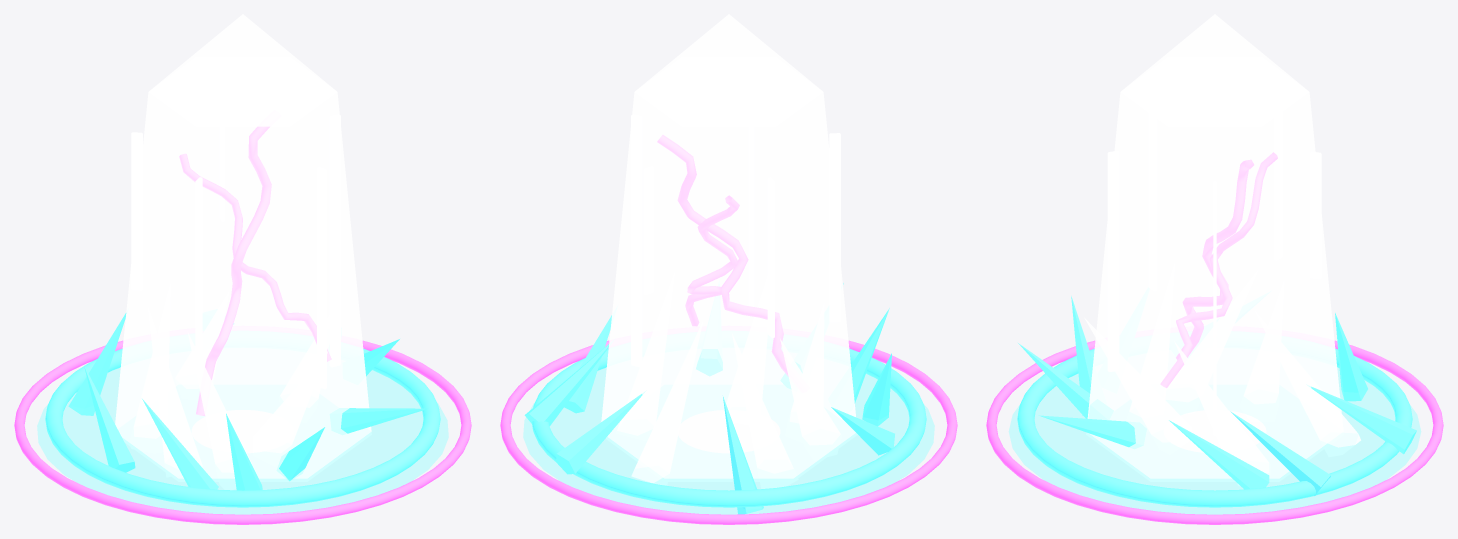
Rendered from vfx_reaction_flashfreeze.glb.
3 renders of one model, left to right at view 1: azimuth 30°, elevation 25°; view 2: azimuth 150°, elevation 25°; view 3: azimuth 270°, elevation 25°, orthographic.
Visible parts, largest first — view 1: ff_pillar, ff_rime, ff_pillar_cap, ff_crystals_b, ff_ring, ff_crystals, ff_ring_shock, ff_arc_a, ff_facet1, ff_arc_b, ff_facet2, ff_facet3; view 2: ff_pillar, ff_crystals_b, ff_pillar_cap, ff_rime, ff_crystals, ff_ring, ff_ring_shock, ff_arc_a, ff_arc_b, ff_facet2, ff_facet4, ff_facet3; view 3: ff_pillar, ff_crystals_b, ff_rime, ff_pillar_cap, ff_crystals, ff_ring, ff_ring_shock, ff_facet1, ff_arc_b, ff_arc_a, ff_facet4, ff_facet0 (+1 smaller).
Boxes of the visible parts, <box> form: ff_pillar: <box>115,57,371,481</box>; ff_rime: <box>37,368,448,514</box>; ff_pillar_cap: <box>149,14,336,126</box>; ff_crystals_b: <box>130,284,337,490</box>; ff_ring: <box>45,348,440,507</box>; ff_crystals: <box>68,312,427,490</box>; ff_ring_shock: <box>14,340,471,524</box>; ff_arc_a: <box>196,127,271,415</box>; ff_facet1: <box>317,166,326,389</box>; ff_arc_b: <box>179,154,331,361</box>; ff_facet2: <box>195,177,202,368</box>; ff_facet3: <box>131,132,142,290</box>; ff_pillar: <box>601,57,857,481</box>; ff_crystals_b: <box>617,273,840,488</box>; ff_pillar_cap: <box>635,14,822,126</box>; ff_rime: <box>523,368,934,514</box>; ff_crystals: <box>524,283,894,514</box>; ff_ring: <box>531,348,926,507</box>; ff_ring_shock: <box>500,340,957,524</box>; ff_arc_a: <box>657,135,788,376</box>; ff_arc_b: <box>685,195,739,325</box>; ff_facet2: <box>829,133,840,321</box>; ff_facet4: <box>643,166,653,294</box>; ff_facet3: <box>767,177,774,338</box>; ff_pillar: <box>1086,57,1341,481</box>; ff_crystals_b: <box>1084,264,1360,486</box>; ff_rime: <box>1009,368,1420,514</box>; ff_pillar_cap: <box>1121,14,1308,126</box>; ff_crystals: <box>1018,296,1416,495</box>; ff_ring: <box>1017,348,1412,507</box>; ff_ring_shock: <box>986,340,1443,524</box>; ff_facet1: <box>1107,151,1119,371</box>; ff_arc_b: <box>1161,152,1277,387</box>; ff_arc_a: <box>1176,160,1253,359</box>; ff_facet4: <box>1310,151,1321,279</box>; ff_facet0: <box>1213,181,1216,435</box>.
Size of the model in its own units: 2.66 by 2.81 by 2.66.
